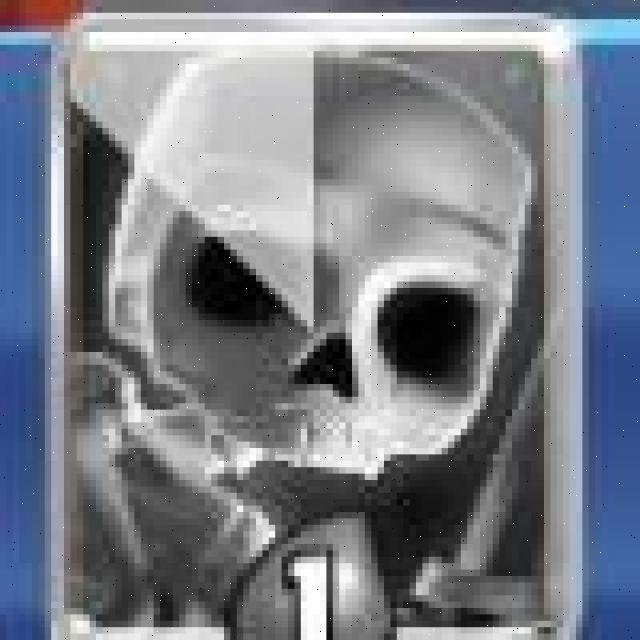Skeletons: (46, 15, 578, 640)
